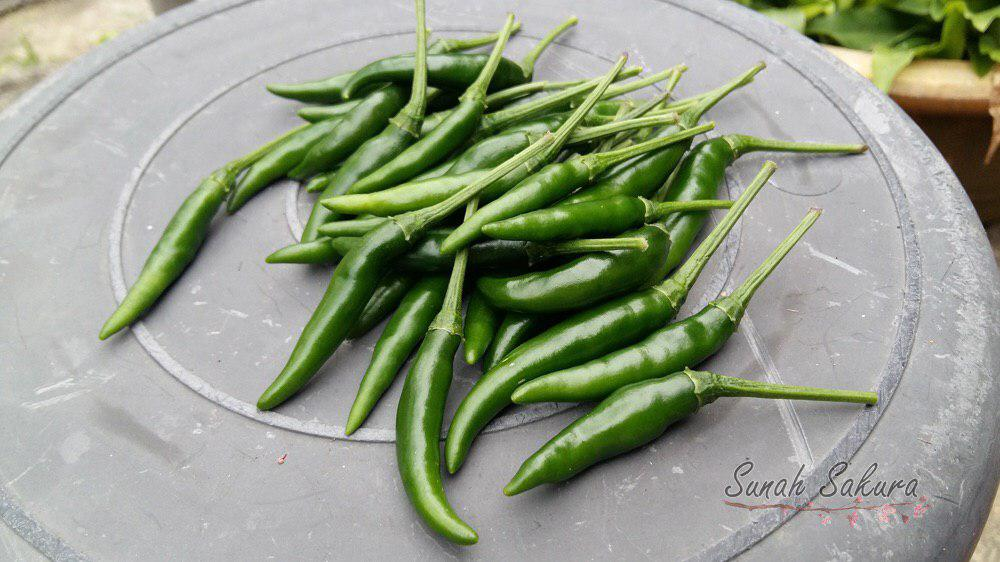lada hijau: (444, 275, 694, 467), (256, 205, 431, 409), (511, 362, 710, 521), (85, 159, 254, 341), (508, 291, 744, 413), (391, 308, 485, 551), (492, 219, 704, 310), (432, 152, 603, 246), (299, 109, 423, 235), (474, 182, 674, 247), (224, 118, 340, 219), (373, 90, 481, 181)
